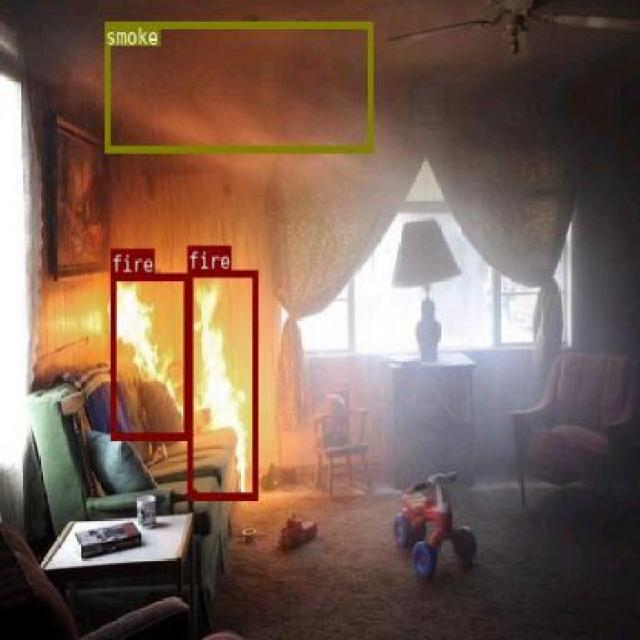fire: (186, 268, 257, 498), (110, 272, 188, 438)
smoke: (105, 20, 372, 152)
